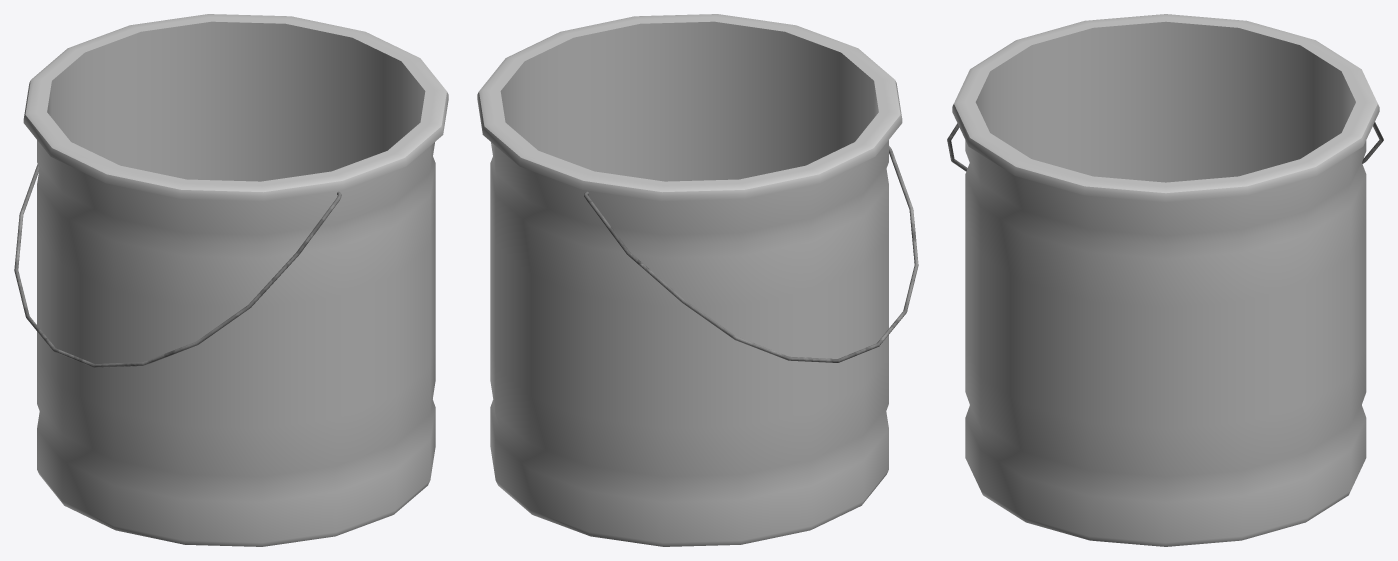
File: Balde.fbx
3 views of the same model, side by side, from view 1: azimuth 30°, elevation 25°; view 2: azimuth 150°, elevation 25°; view 3: azimuth 270°, elevation 25° (orthographic).
Visible parts, largest first — view 1: Balde_Mesh, Alca_Mesh; view 2: Balde_Mesh, Alca_Mesh; view 3: Balde_Mesh.
Boxes of the visible parts, <box> form: Balde_Mesh: <box>23,14,448,546</box>; Alca_Mesh: <box>14,164,341,367</box>; Balde_Mesh: <box>477,14,902,546</box>; Alca_Mesh: <box>584,146,918,362</box>; Balde_Mesh: <box>952,14,1379,546</box>.
Bounding box in the file's own units: 42.73 × 40 × 43.58.
